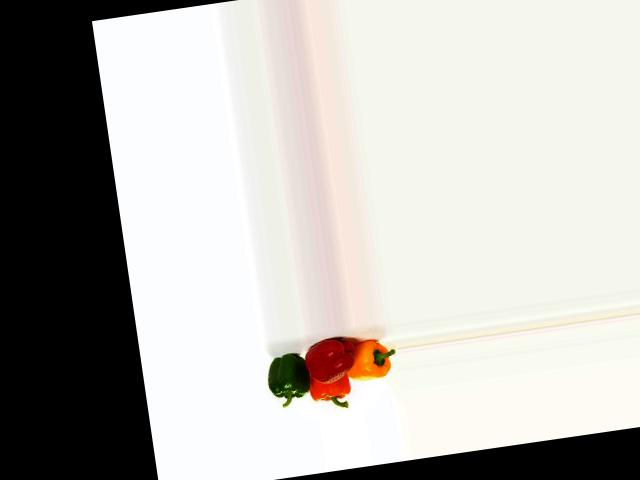bell_pepper: (263, 344, 315, 405)
